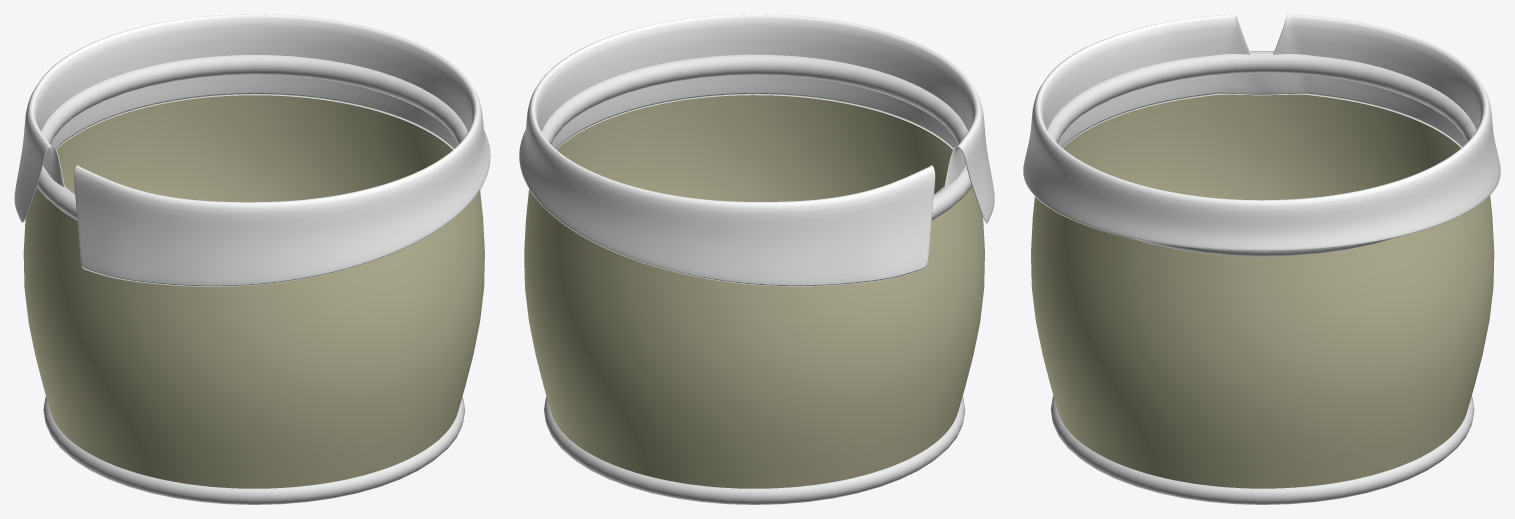
Rendered from Larry's SUV Outfit.fbx.
3 views of the same model, side by side, from view 1: azimuth 30°, elevation 25°; view 2: azimuth 150°, elevation 25°; view 3: azimuth 270°, elevation 25° (orthographic).
Parts seen in each view (by area): view 1: Circle.005, Mr. Nezzer Shirt, Torus.001, Torus.002; view 2: Circle.005, Mr. Nezzer Shirt, Torus.001, Torus.002; view 3: Circle.005, Mr. Nezzer Shirt, Torus.001, Torus.002.
Part boxes in pixels (bbox=[...]): Circle.005: bbox=[23, 95, 484, 488]; Mr. Nezzer Shirt: bbox=[14, 14, 490, 286]; Torus.001: bbox=[37, 55, 467, 220]; Torus.002: bbox=[43, 396, 464, 504]; Circle.005: bbox=[524, 95, 984, 488]; Mr. Nezzer Shirt: bbox=[519, 14, 994, 286]; Torus.001: bbox=[542, 54, 971, 220]; Torus.002: bbox=[544, 396, 965, 504]; Circle.005: bbox=[1031, 94, 1494, 488]; Mr. Nezzer Shirt: bbox=[1023, 14, 1500, 251]; Torus.001: bbox=[1047, 51, 1476, 256]; Torus.002: bbox=[1050, 396, 1474, 504].
Bounding box in the file's own units: 394 × 288 × 399.
